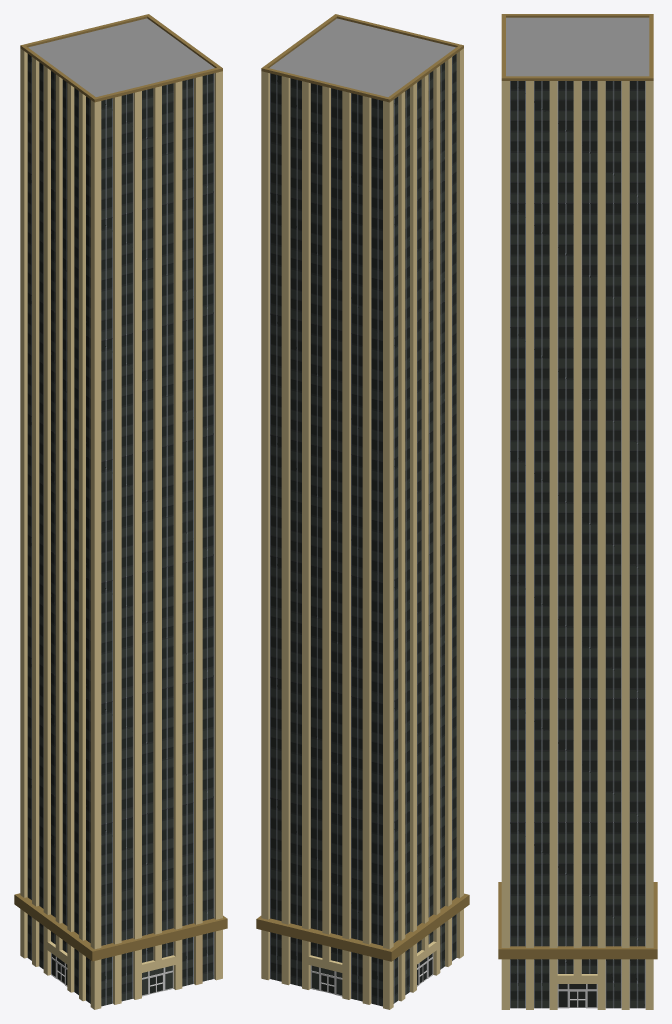
The picture shows the model from 3 angles, left to right: view 1: azimuth 30°, elevation 25°; view 2: azimuth 150°, elevation 25°; view 3: azimuth 270°, elevation 25°; orthographic projection. The views are drawn at different scales.
Parts seen in each view (by area): view 1: EC-17; view 2: EC-17; view 3: EC-17.
Boxes of the visible parts, bbox=[...] form: EC-17: bbox=[14, 14, 227, 1009]; EC-17: bbox=[256, 14, 469, 1009]; EC-17: bbox=[498, 14, 657, 1009].
Bounding box in the file's own units: 21.03 × 135 × 21.03.
